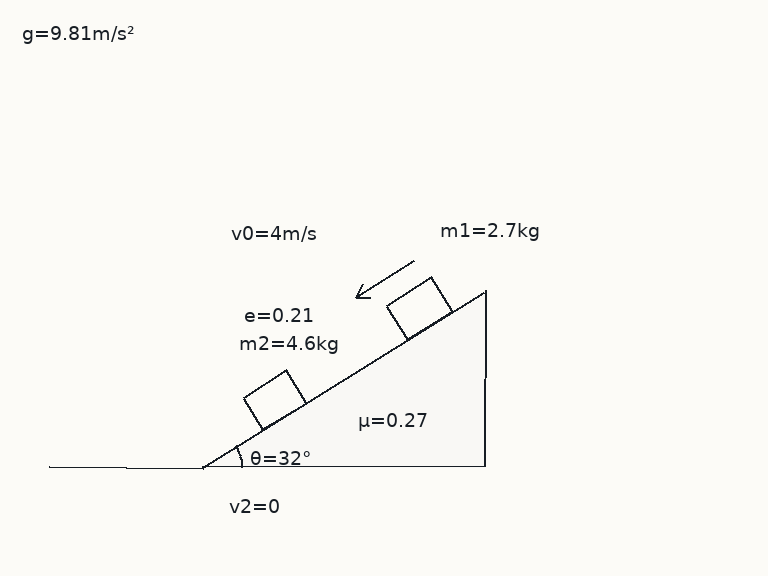block: (384, 275, 454, 341), (240, 369, 307, 431)
ramp: (200, 289, 486, 469)
